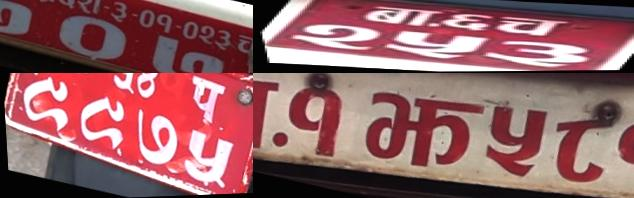0: (50, 7, 135, 70), (177, 20, 202, 45), (134, 8, 157, 33)
1: (273, 79, 355, 167), (602, 107, 634, 198), (151, 13, 176, 37)
2: (273, 21, 401, 52), (194, 24, 219, 50)
3: (467, 38, 600, 70), (105, 1, 133, 30), (212, 28, 236, 56)
4: (128, 73, 166, 106)
5: (472, 94, 557, 188), (362, 28, 498, 62), (176, 126, 241, 192), (102, 73, 143, 97)
6: (430, 12, 502, 32)
7: (123, 105, 187, 174), (140, 32, 233, 73), (0, 0, 40, 46)
8: (539, 108, 622, 198)
9: (67, 89, 135, 160), (9, 73, 79, 139)
ba: (253, 73, 292, 164), (346, 5, 444, 27)
cha: (480, 15, 571, 38), (231, 33, 253, 62)
jha: (353, 77, 492, 189)
pa: (177, 73, 230, 129)
